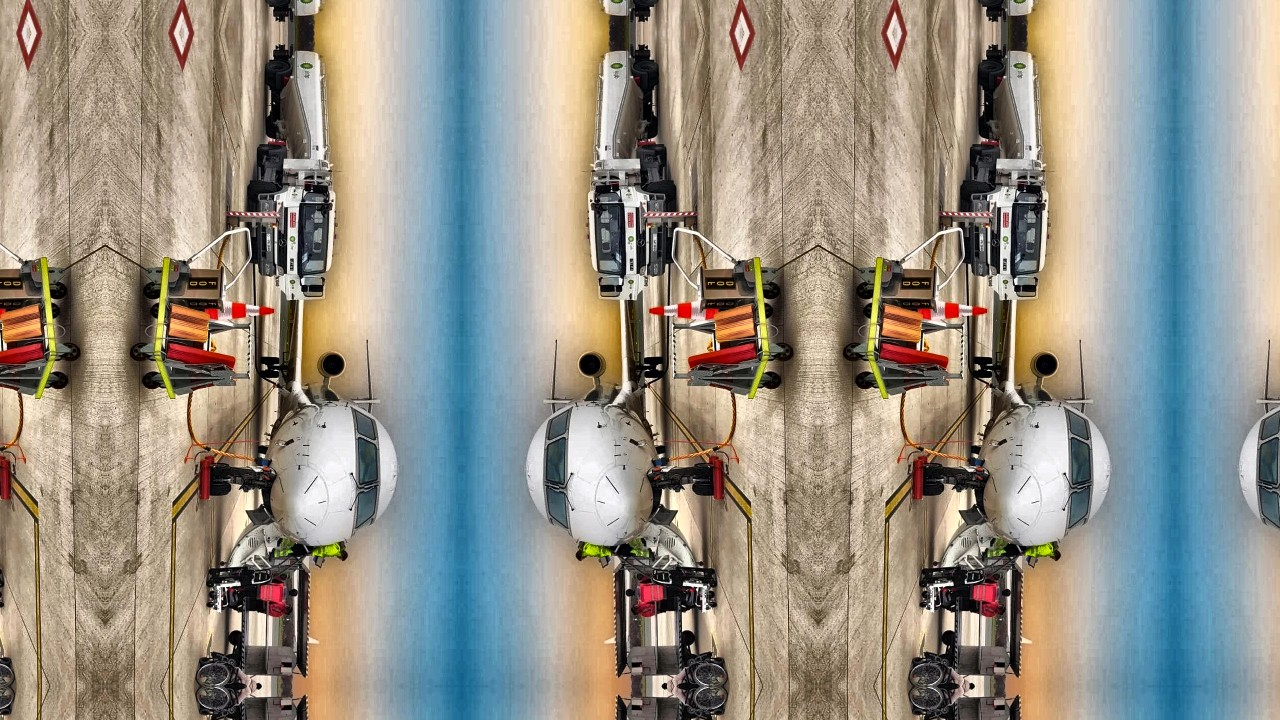chock: (165, 343, 236, 373), (687, 343, 758, 373), (879, 343, 950, 373), (0, 343, 44, 373), (168, 303, 211, 327), (712, 303, 755, 327), (883, 303, 925, 327), (0, 319, 42, 342), (168, 319, 210, 342), (0, 303, 40, 327), (714, 319, 755, 342), (882, 319, 923, 342)
wheel: (644, 181, 676, 206), (247, 181, 278, 206), (961, 181, 992, 206), (264, 60, 290, 85), (634, 60, 659, 85), (978, 60, 1003, 85), (257, 143, 284, 160), (266, 112, 282, 140), (642, 112, 658, 140), (979, 112, 995, 140), (639, 143, 665, 160), (972, 143, 998, 160), (208, 480, 232, 497), (692, 480, 715, 497), (923, 480, 946, 497), (246, 237, 259, 264), (664, 237, 677, 264), (960, 237, 973, 264), (209, 463, 232, 478), (691, 463, 714, 478), (923, 463, 946, 478), (681, 629, 695, 646), (942, 629, 956, 646), (228, 629, 241, 646), (264, 0, 290, 6), (634, 0, 659, 6), (978, 0, 1003, 6)
